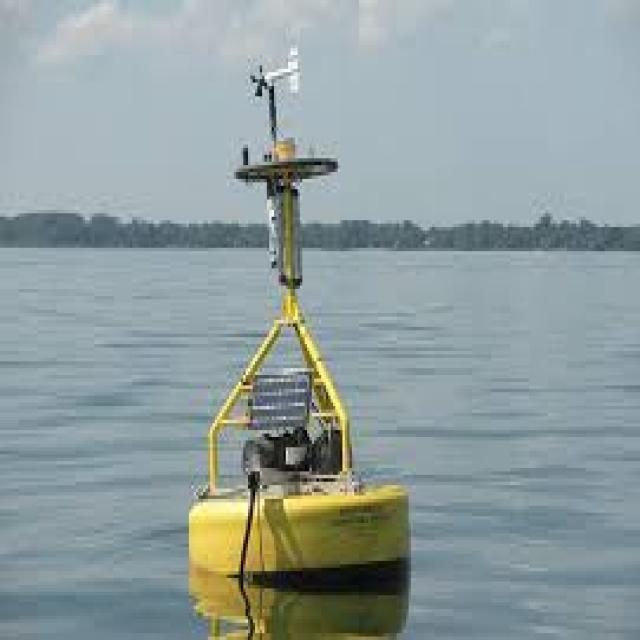marque: (189, 37, 424, 599)
